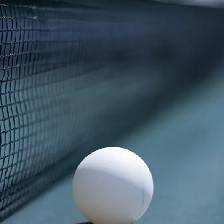WhiteBall: (72, 146, 153, 223)
